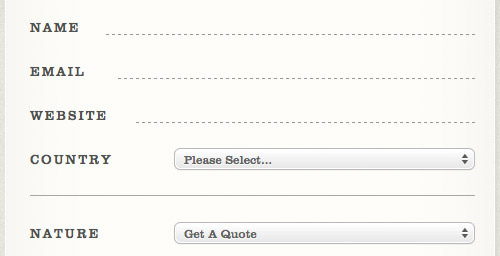_form_: (65, 1, 481, 256)
field: (174, 148, 475, 171), (175, 222, 476, 244)
field_line: (102, 19, 476, 36), (114, 65, 475, 81), (132, 108, 477, 124)
field_line_with_label: (31, 17, 478, 38), (31, 106, 480, 126), (30, 63, 476, 82)
field_with_label: (31, 220, 477, 246), (31, 147, 476, 172)
